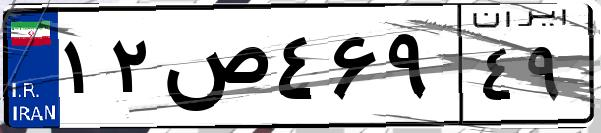1: (57, 26, 110, 100)
2: (110, 28, 158, 98)
4: (270, 28, 330, 110), (475, 38, 525, 113)
6: (330, 28, 385, 110)
9: (385, 28, 445, 110), (525, 38, 570, 115)
ص: (158, 20, 270, 120)
